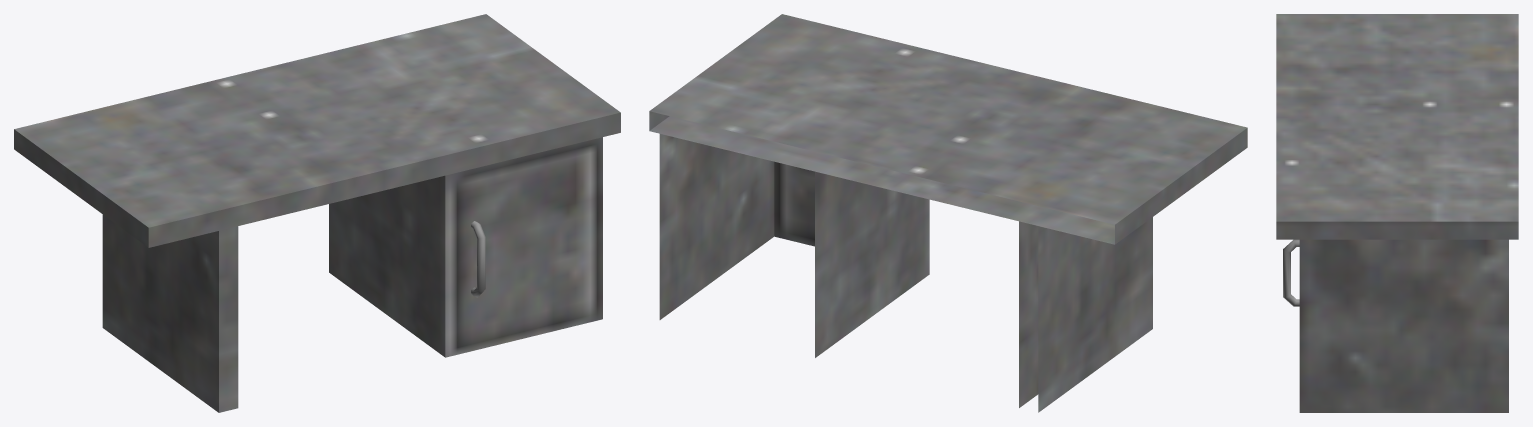
Rendered from Desk.FBX.
The picture shows the model from 3 angles, left to right: view 1: azimuth 30°, elevation 25°; view 2: azimuth 150°, elevation 25°; view 3: azimuth 270°, elevation 25°; orthographic projection. The views are drawn at different scales.
Parts seen in each view (by area): view 1: Desk; view 2: Desk; view 3: Desk.
Boxes of the visible parts, x1,y1,x2,y2 form: Desk: [14, 14, 620, 412]; Desk: [649, 14, 1247, 412]; Desk: [1276, 14, 1518, 412].
Bounding box in the file's own units: 156 × 67.85 × 77.01.
